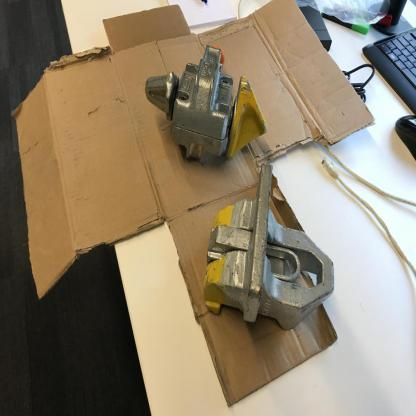Twistlock: (200, 158, 338, 338), (143, 36, 269, 166)
